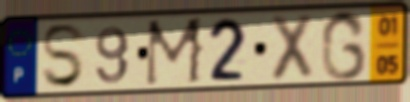2: (205, 15, 250, 86)
9: (93, 24, 131, 85)
G: (319, 8, 369, 83)
M: (143, 15, 207, 89)
S: (39, 22, 89, 91)
X: (268, 11, 316, 84)
